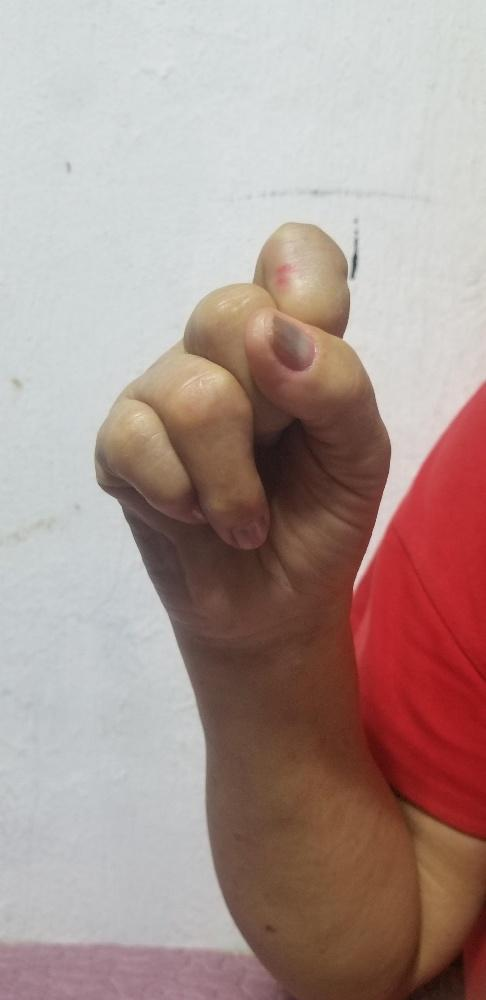s: (92, 220, 395, 623)
